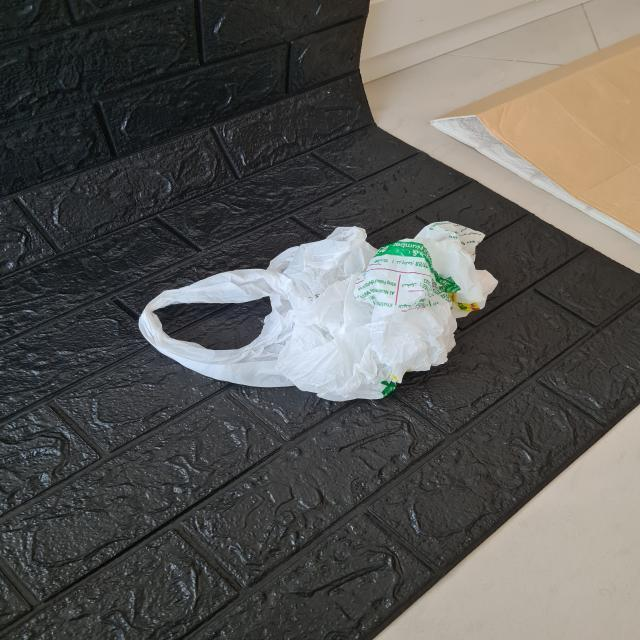Plastic_Bag: (105, 205, 512, 419)
